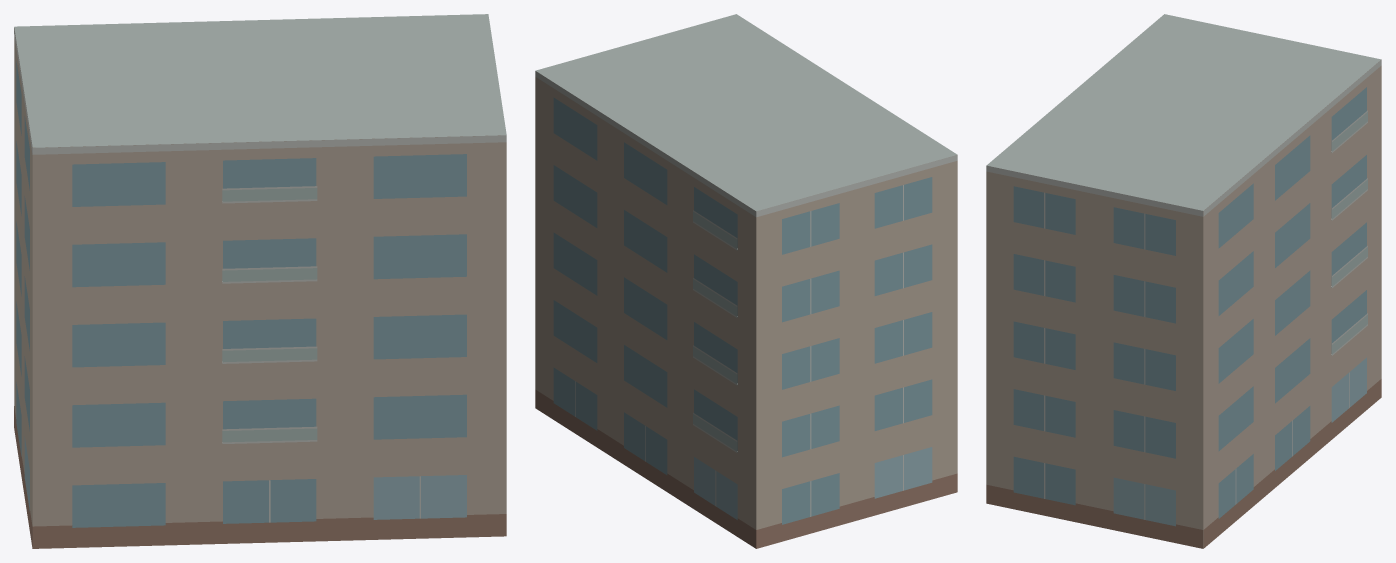
The model's file is survey-upis-32884362.glb.
3 renders of one model, left to right at view 1: azimuth 30°, elevation 25°; view 2: azimuth 150°, elevation 25°; view 3: azimuth 270°, elevation 25°, orthographic. The views are drawn at different scales.
Parts seen in each view (by area): view 1: survey-upis-32884362.tmp; view 2: survey-upis-32884362.tmp; view 3: survey-upis-32884362.tmp.
Part boxes in pixels (box(x1,y1,x2,y2)): survey-upis-32884362.tmp: box(14, 14, 506, 548); survey-upis-32884362.tmp: box(535, 14, 957, 548); survey-upis-32884362.tmp: box(986, 14, 1381, 548).
Size of the model in its own units: 17.38 by 13.9 by 14.74.
